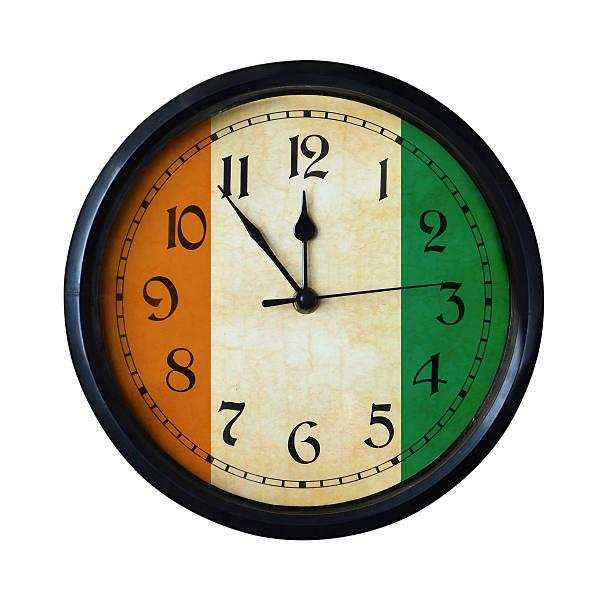clock: (62, 62, 550, 544)
